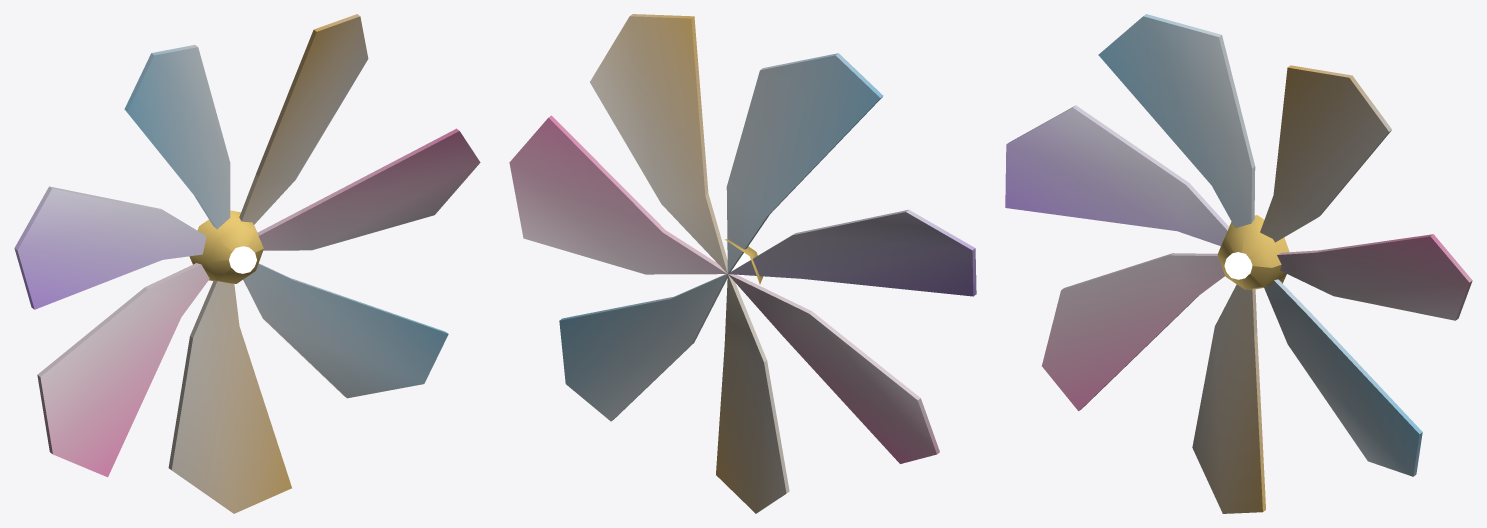
Rendered from moinho-de-vento-celeste.glb.
3 views of the same model, side by side, from view 1: azimuth 30°, elevation 25°; view 2: azimuth 150°, elevation 25°; view 3: azimuth 330°, elevation 25° (orthographic).
Visible parts, largest first — view 1: moinho-de-vento-celeste; view 2: moinho-de-vento-celeste; view 3: moinho-de-vento-celeste.
Boxes of the visible parts, box(x1,y1,x2,y2) form: moinho-de-vento-celeste: box(14, 14, 480, 513); moinho-de-vento-celeste: box(509, 14, 976, 513); moinho-de-vento-celeste: box(1005, 14, 1472, 513).
Bounding box in the file's own units: 3.4 × 3.35 × 0.3976.
